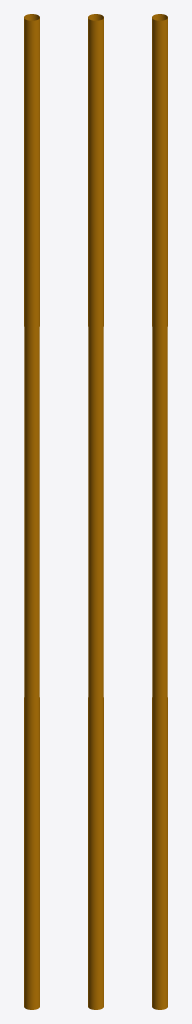
The model's file is S_Pipe_Spline.FBX.
3 views of the same model, side by side, from view 1: azimuth 90°, elevation 25°; view 2: azimuth 210°, elevation 25°; view 3: azimuth 270°, elevation 25° (orthographic).
Visible parts, largest first — view 1: S_Pipe_Spline; view 2: S_Pipe_Spline; view 3: S_Pipe_Spline.
Part boxes in pixels (x1,y1,x2,y2): S_Pipe_Spline: [24, 14, 39, 1009]; S_Pipe_Spline: [88, 14, 103, 1009]; S_Pipe_Spline: [152, 14, 167, 1009].
Size of the model in its own units: 2.36 by 160 by 2.36.
